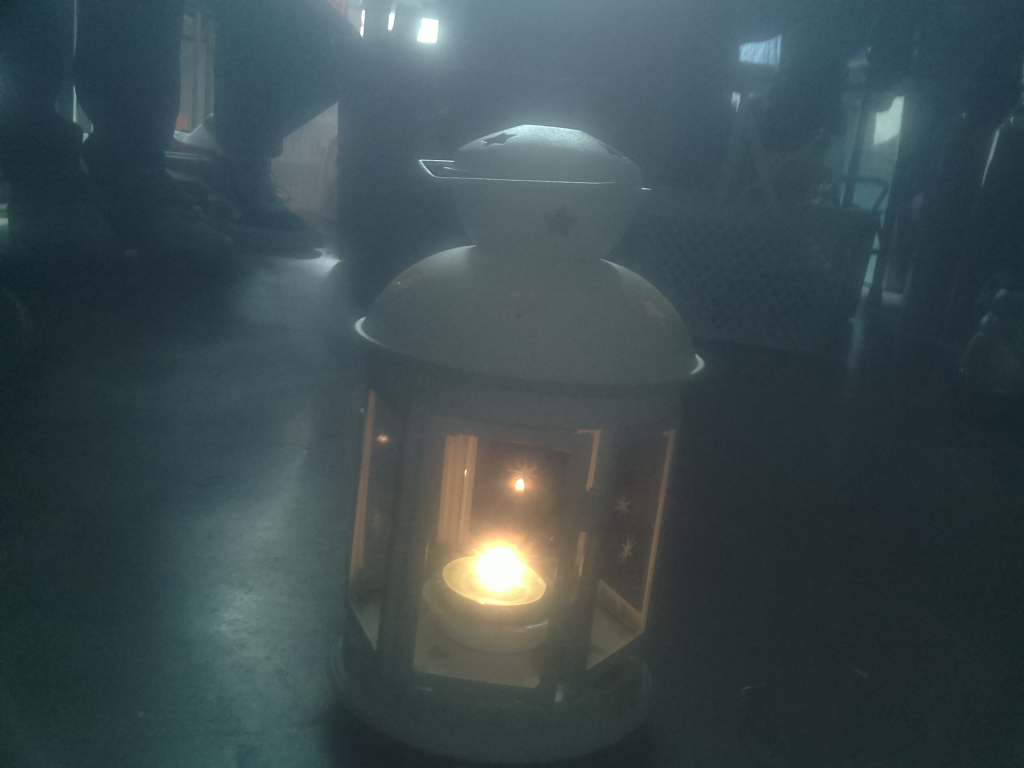fire: (420, 516, 576, 654)
